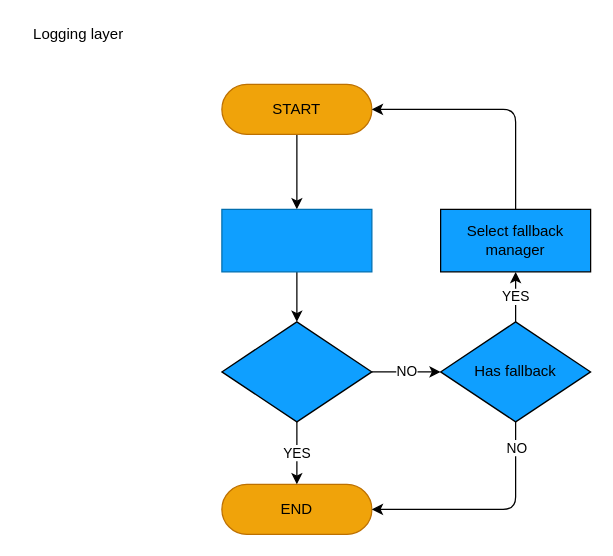
Some shapes in this 613 by 556 pixel diagram are drawn without their labels. The centre of each missing label's shape, as x and y in pixels:
Save Log: (x=296, y=240)
Succeeded: (x=296, y=371)
